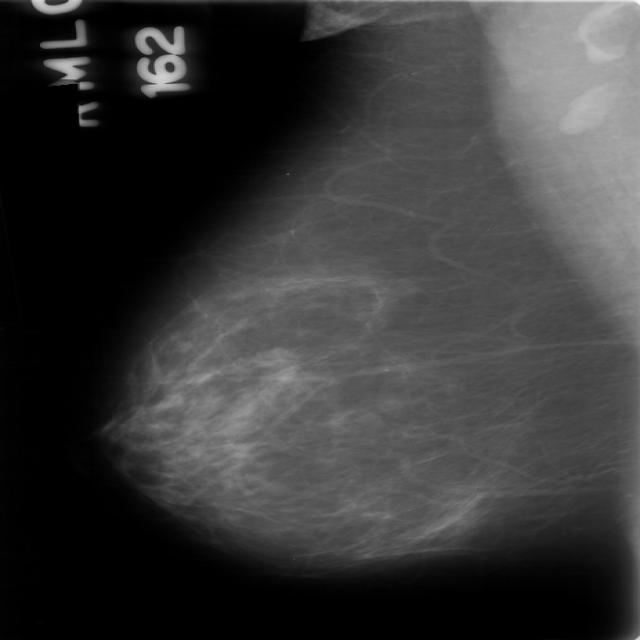tumour: (257, 349, 308, 387)
